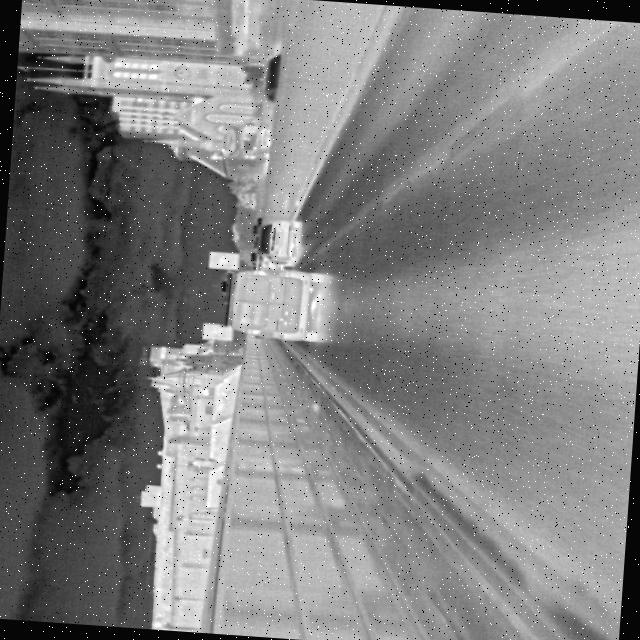Vehicle: (222, 262, 327, 344), (252, 217, 303, 264)
